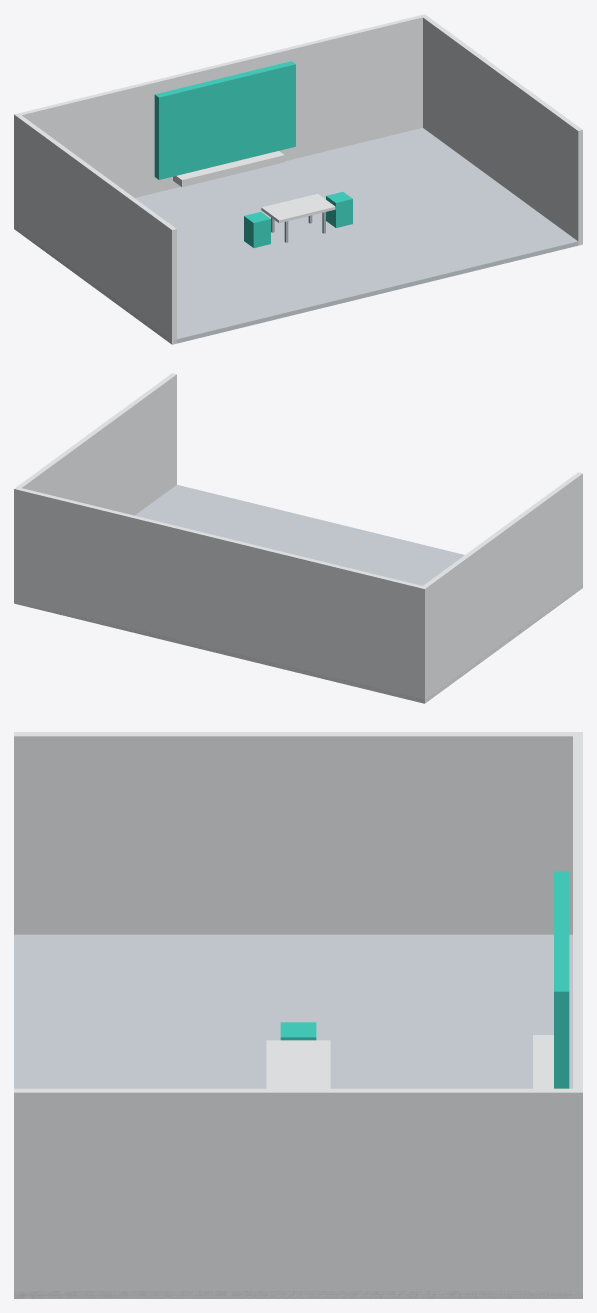
3 views of the same model, one above another, from view 1: azimuth 30°, elevation 25°; view 2: azimuth 150°, elevation 25°; view 3: azimuth 270°, elevation 25° (orthographic). The views are drawn at different scales.
Visible parts, largest first — view 1: Exhibition Booth Concept; view 2: Exhibition Booth Concept; view 3: Exhibition Booth Concept.
Boxes of the visible parts, <box> form: Exhibition Booth Concept: <box>14,14,582,344</box>; Exhibition Booth Concept: <box>14,373,582,703</box>; Exhibition Booth Concept: <box>14,732,582,1298</box>.
Bounding box in the file's own units: 12 × 3.2 × 8.
